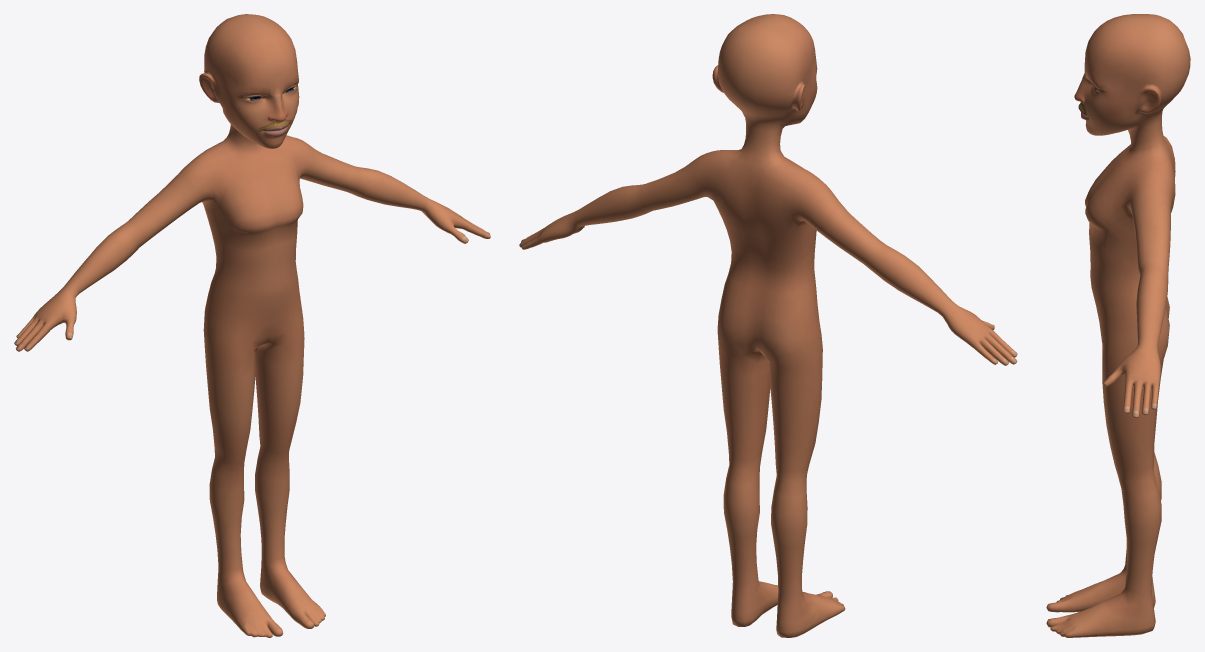
Rendered from frame_0036.glb.
3 views of the same model, side by side, from view 1: azimuth 30°, elevation 25°; view 2: azimuth 150°, elevation 25°; view 3: azimuth 270°, elevation 25° (orthographic). The views are drawn at different scales.
Visible parts, largest first — view 1: frame_0036_head_geo; view 2: frame_0036_head_geo; view 3: frame_0036_head_geo.
Boxes of the visible parts, box(x1,y1,x2,y2) form: frame_0036_head_geo: box(14, 14, 490, 637); frame_0036_head_geo: box(519, 14, 1017, 637); frame_0036_head_geo: box(1046, 14, 1190, 637).
Size of the model in its own units: 1.28 by 1.5 by 0.3253.
Materials: 3 (3 with a texture image).
